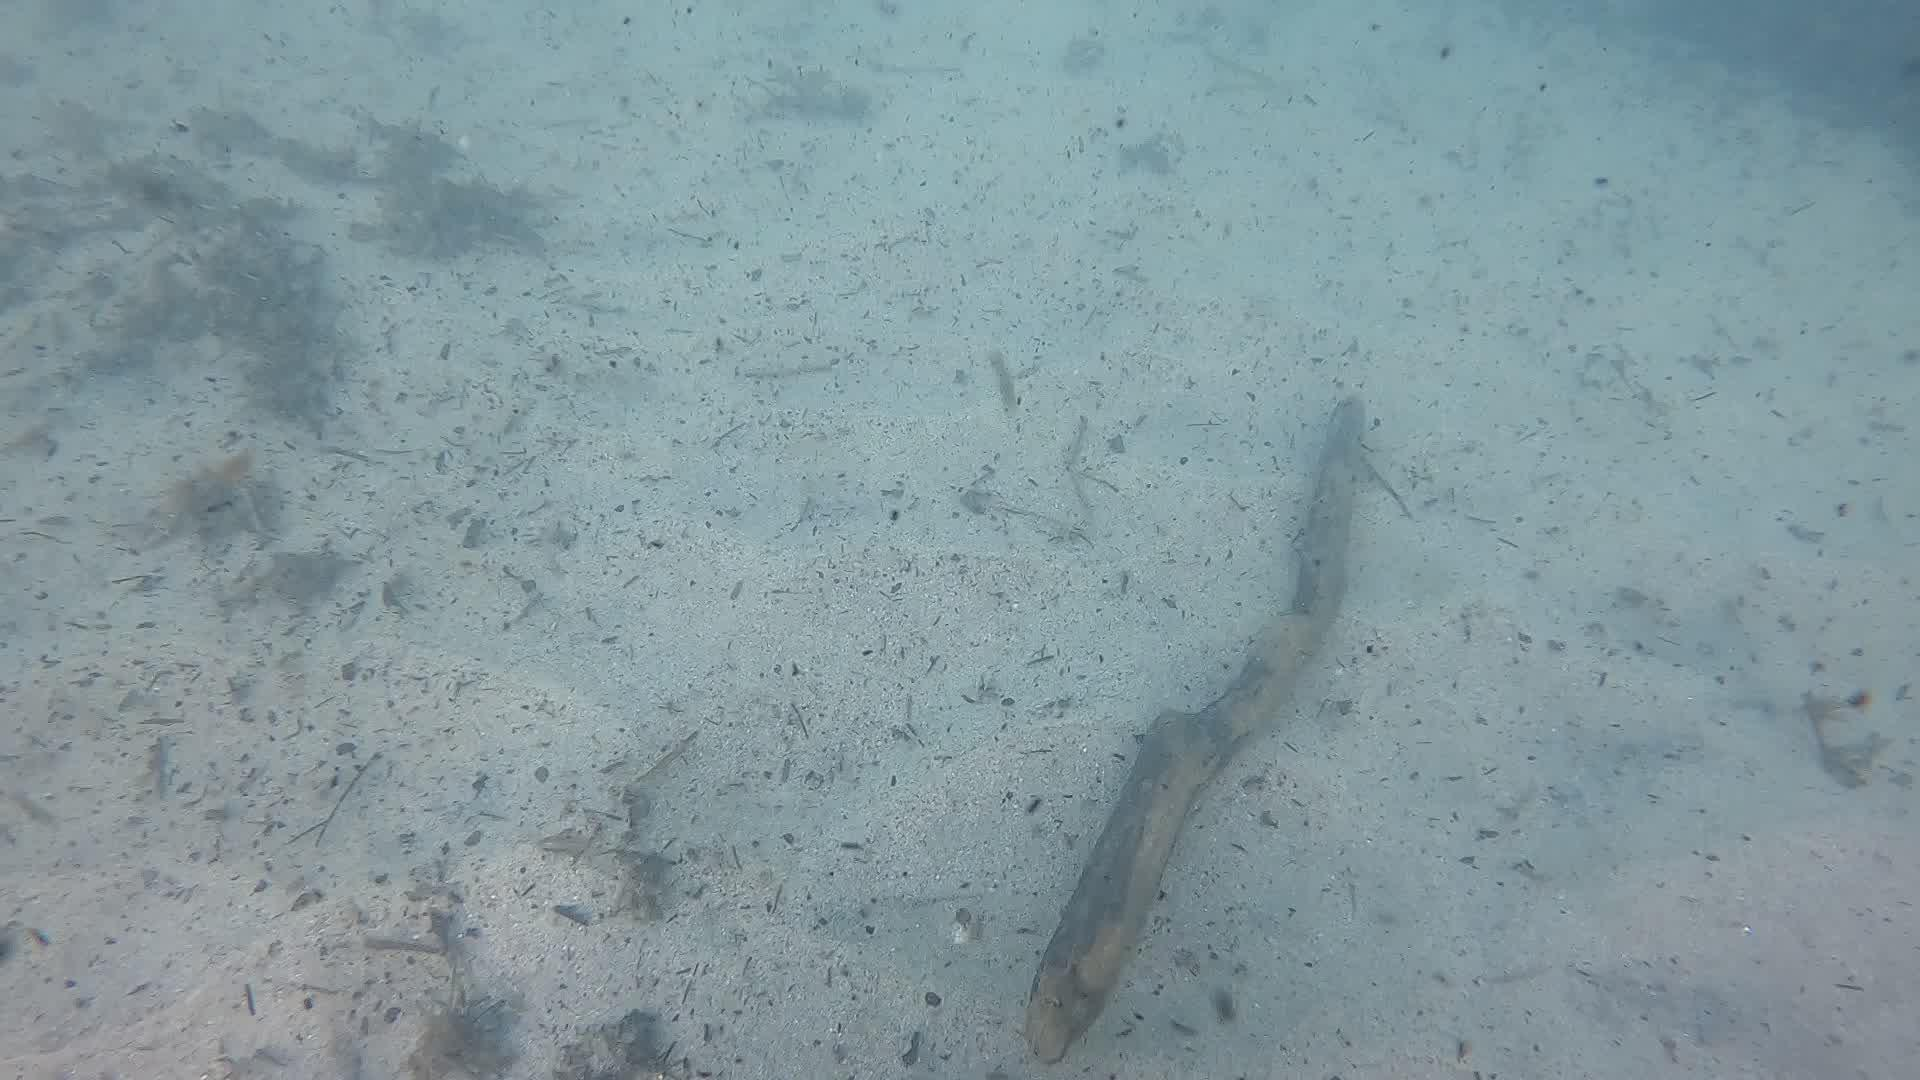wood: (1015, 396, 1367, 1062)
